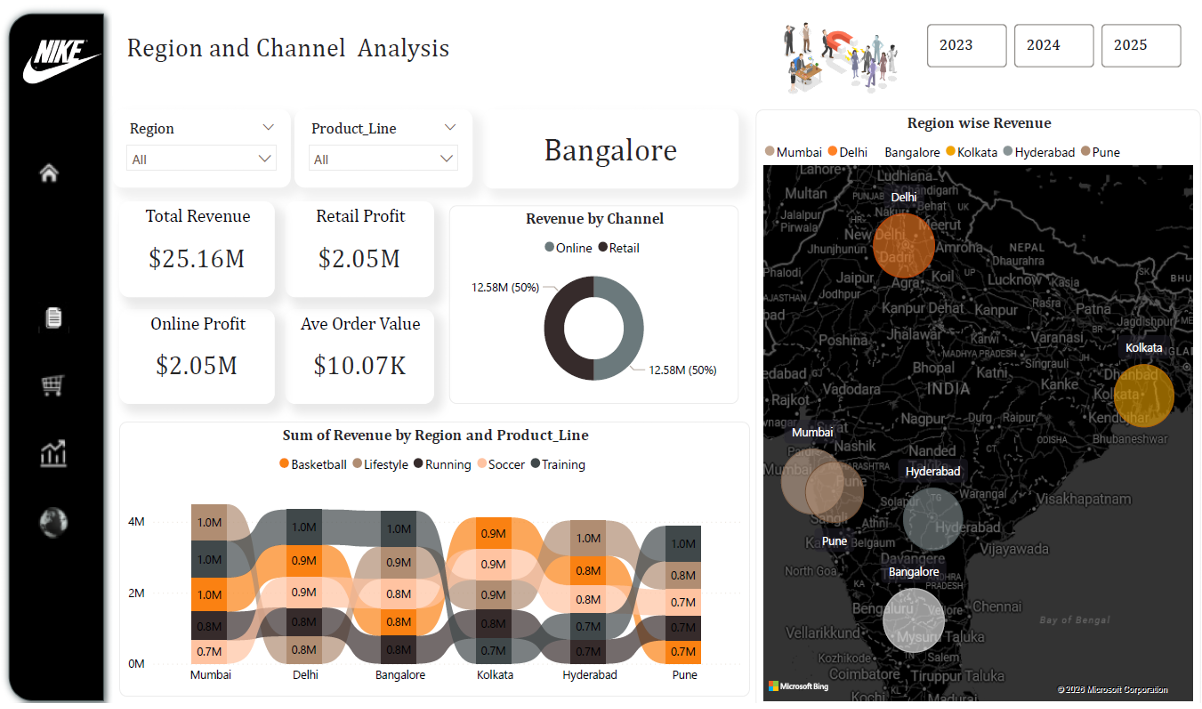

The page's visual inventory and layout, read from the dashboard file:
{"tool":"powerbi","page":{"name":"Region & Channel Analysis ","canvas":[1280,720],"ordinal":4},"visuals":[{"type":"ribbonChart","fields":{"Category":["nike_sales_cleaned_safe (5).Region"],"Y":["Sum(nike_sales_cleaned_safe (5).Revenue)"],"Series":["nike_sales_cleaned_safe (5).Product_Line"]},"box":[125.9,421.2,672.9,289.4],"z":0},{"type":"map","title":"Region wise Revenue","fields":{"Category":["nike_sales_cleaned_safe (5).Region"],"Series":["nike_sales_cleaned_safe (5).Region"],"Size":["Sum(nike_sales_cleaned_safe (5).Revenue)"]},"box":[804.7,107.1,475.3,603.5],"z":1000},{"type":"slicer","fields":{"Values":["nike_sales_cleaned_safe (5).Region"]},"box":[118.6,107,190.7,80.2],"z":2000},{"type":"card","fields":{"Values":["Min(nike_sales_cleaned_safe (5).Region)"]},"box":[514,107,273.3,81.4],"z":3000},{"type":"donutChart","title":"Revenue by Channel","fields":{"Category":["nike_sales_cleaned_safe (5).Sales_Channel"],"Y":["nike_sales_cleaned_safe (5).Total Revenue"]},"box":[477.9,204.7,309.3,203.5],"z":4000},{"type":"shape","box":[0,0,118.9,720.5],"z":5000},{"type":"actionButton","box":[36,157.3,39.6,30],"z":6000},{"type":"card","title":"Ave Order Value","fields":{"Values":["nike_sales_cleaned_safe (5).AOV"]},"box":[302.6,311.7,159.1,96.5],"z":6000,"group":"g1"},{"type":"actionButton","box":[36,297.7,39.5,43],"z":7000},{"type":"card","title":"Online Profit","fields":{"Values":["nike_sales_cleaned_safe (5).Online Revenue"]},"box":[125.6,311.7,166.4,96.5],"z":7000,"group":"g1"},{"type":"card","title":"Retail Profit","fields":{"Values":["nike_sales_cleaned_safe (5).Retail Revenue"]},"box":[302.6,201.2,159.1,97.7],"z":8000,"group":"g1"},{"type":"actionButton","box":[37.2,369.8,39.5,38.4],"z":8000},{"type":"card","title":"Total Revenue","fields":{"Values":["nike_sales_cleaned_safe (5).Total Revenue"]},"box":[125.6,201.2,166.4,97.7],"z":9000,"group":"g1"},{"type":"actionButton","box":[36,437.2,39.5,40.7],"z":9000},{"type":"actionButton","box":[36,510.5,39.5,38.4],"z":10000},{"type":"textbox","box":[119,8,375,85],"z":11000},{"type":"advancedSlicerVisual","fields":{"Values":["nike_sales_cleaned_safe (5).Order_Date.Variation.Date Hierarchy.Year"]},"box":[982.6,15.1,282.6,53.5],"z":12000},{"type":"slicer","fields":{"Values":["nike_sales_cleaned_safe (5).Product_Line"]},"box":[312.8,107,190.7,80.2],"z":13000},{"type":"group","id":"g1","title":"Group 1","box":[125.6,201.2,336,207],"z":14000},{"type":"image","box":[13.2,22.8,97.3,69.6],"z":15000},{"type":"image","box":[815.1,8.1,159.3,93],"z":16000}]}

Visuals, with their boxes on the page's 1280x720 design canvas (x1, y1, x2, y2). These are canvas units, not pixel positions in the 1202x709 screenshot, which may show the page scaled, cropped or inside an application window:
ribbonChart - nike_sales_cleaned_safe (5).Region x Sum(nike_sales_cleaned_safe (5).Revenue): select_region(126, 421, 799, 711)
"Region wise Revenue" map: select_region(805, 107, 1280, 711)
slicer - nike_sales_cleaned_safe (5).Region: select_region(119, 107, 309, 187)
card - Min(nike_sales_cleaned_safe (5).Region): select_region(514, 107, 787, 188)
"Revenue by Channel" donutChart: select_region(478, 205, 787, 408)
shape: select_region(0, 0, 119, 720)
actionButton: select_region(36, 157, 76, 187)
"Ave Order Value" card: select_region(303, 312, 462, 408)
actionButton: select_region(36, 298, 76, 341)
"Online Profit" card: select_region(126, 312, 292, 408)
"Retail Profit" card: select_region(303, 201, 462, 299)
actionButton: select_region(37, 370, 77, 408)
"Total Revenue" card: select_region(126, 201, 292, 299)
actionButton: select_region(36, 437, 76, 478)
actionButton: select_region(36, 510, 76, 549)
textbox: select_region(119, 8, 494, 93)
advancedSlicerVisual - nike_sales_cleaned_safe (5).Order_Date.Variation.Date Hierarchy.Year: select_region(983, 15, 1265, 69)
slicer - nike_sales_cleaned_safe (5).Product_Line: select_region(313, 107, 504, 187)
"Group 1" group: select_region(126, 201, 462, 408)
image: select_region(13, 23, 110, 92)
image: select_region(815, 8, 974, 101)
